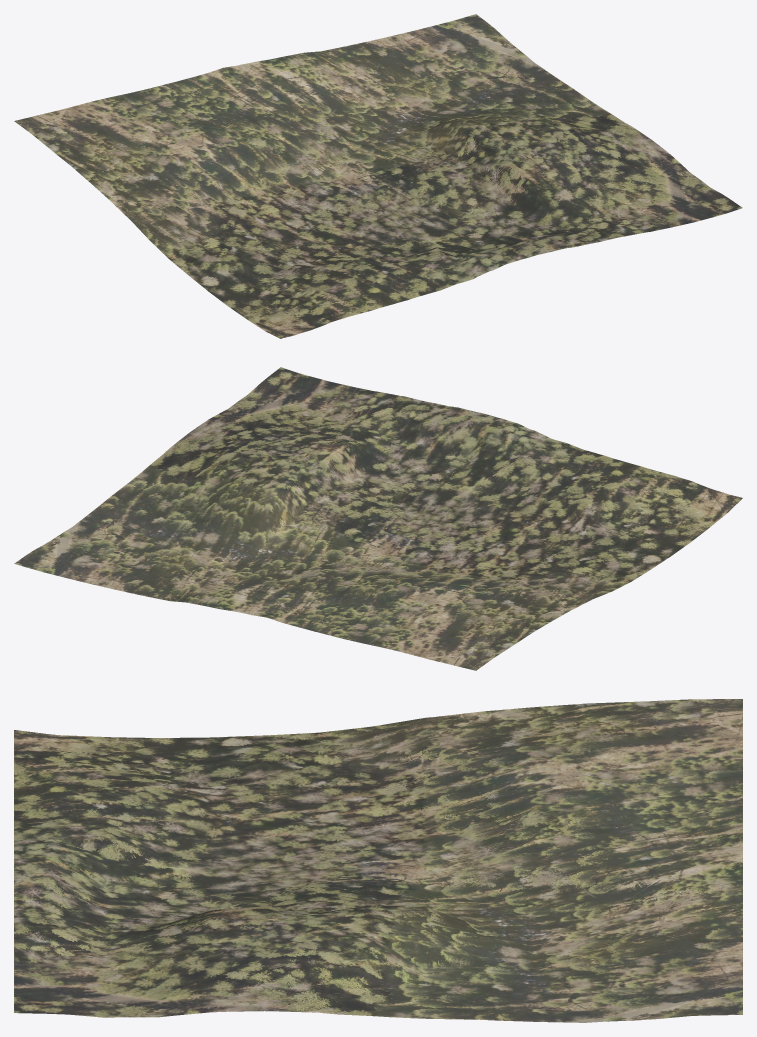
File: CM_Terrain_24492711_6814060.fbx
3 views of the same model, one above another, from view 1: azimuth 30°, elevation 25°; view 2: azimuth 150°, elevation 25°; view 3: azimuth 270°, elevation 25° (orthographic). The views are drawn at different scales.
Parts seen in each view (by area): view 1: CM_Terrain_24492711_6814060_LOD0; view 2: CM_Terrain_24492711_6814060_LOD0; view 3: CM_Terrain_24492711_6814060_LOD0.
Part boxes in pixels (x1,y1,x2,y2): CM_Terrain_24492711_6814060_LOD0: (14, 14, 742, 338); CM_Terrain_24492711_6814060_LOD0: (14, 367, 742, 670); CM_Terrain_24492711_6814060_LOD0: (14, 699, 742, 1022).
Size of what is drawn, in the model's own units: 205 by 15.84 by 205.
